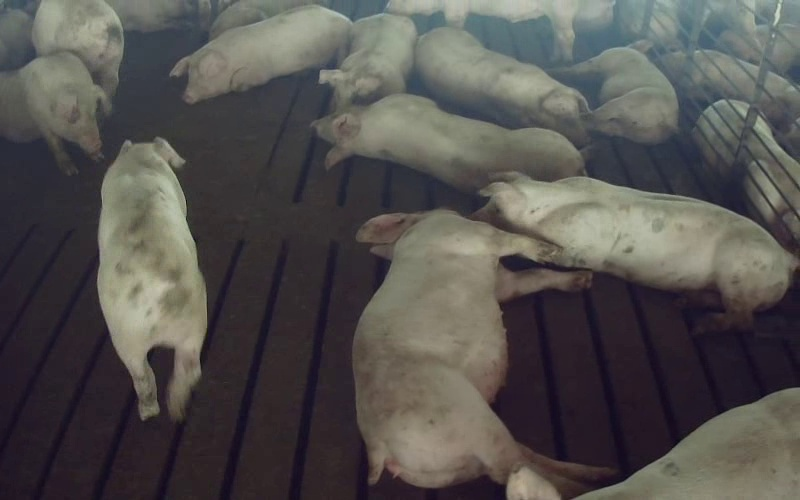pig: (353, 210, 613, 495), (476, 173, 796, 330), (98, 137, 206, 420), (312, 95, 585, 191), (170, 5, 351, 103), (552, 40, 678, 144), (319, 14, 416, 109), (32, 0, 123, 99)
